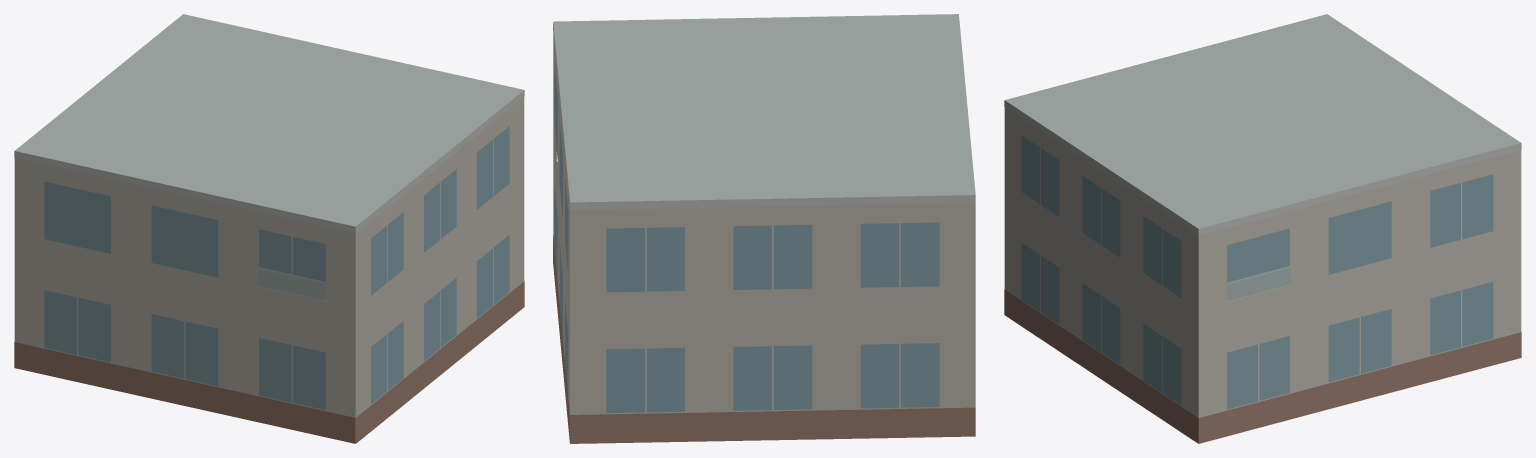
The model's file is survey-upis-32625298.glb.
3 renders of one model, left to right at view 1: azimuth 30°, elevation 25°; view 2: azimuth 150°, elevation 25°; view 3: azimuth 270°, elevation 25°, orthographic. The views are drawn at different scales.
Parts seen in each view (by area): view 1: survey-upis-32625298.tmp; view 2: survey-upis-32625298.tmp; view 3: survey-upis-32625298.tmp.
Part boxes in pixels (box(x1,y1,x2,y2)): survey-upis-32625298.tmp: box(14, 14, 524, 443); survey-upis-32625298.tmp: box(553, 14, 975, 443); survey-upis-32625298.tmp: box(1004, 14, 1521, 443).
Size of the model in its own units: 16.74 by 7.8 by 17.01.
